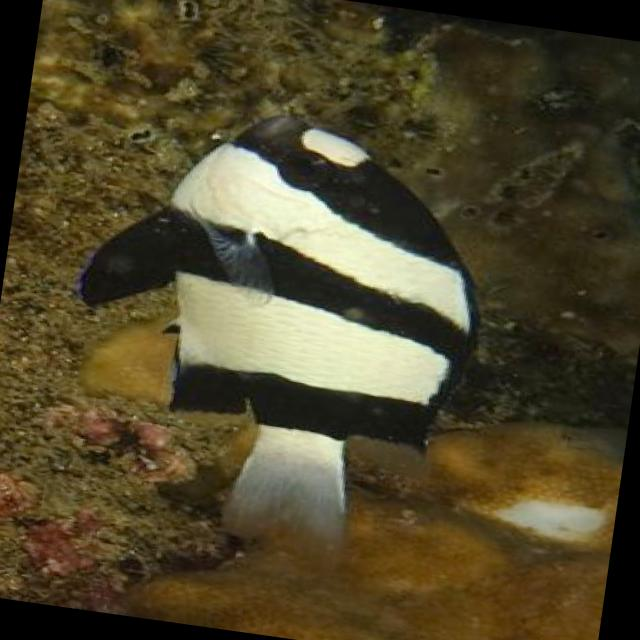ThreeStripedDamselfish: (70, 115, 479, 561)
